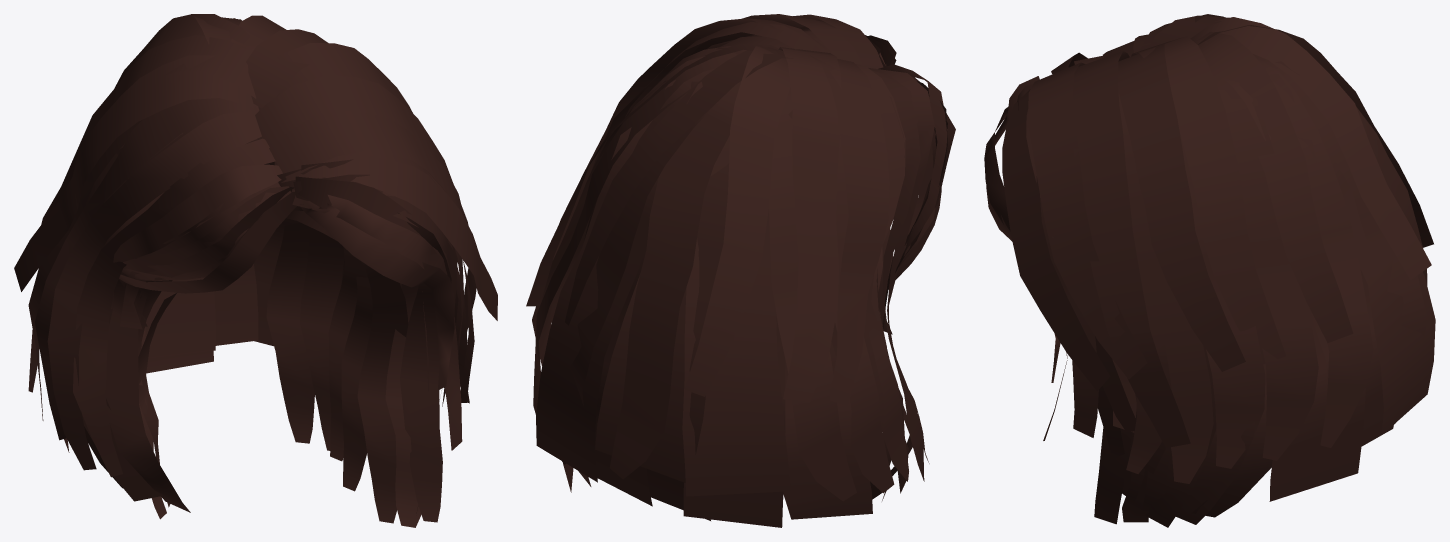
File: Hair.glb
The picture shows the model from 3 angles, left to right: view 1: azimuth 30°, elevation 25°; view 2: azimuth 150°, elevation 25°; view 3: azimuth 270°, elevation 25°; orthographic projection. The views are drawn at different scales.
Visible parts, largest first — view 1: Hair; view 2: Hair; view 3: Hair.
Part boxes in pixels (x1=…): Hair: x1=14, y1=14, x2=497, y2=527; Hair: x1=526, y1=14, x2=955, y2=527; Hair: x1=984, y1=14, x2=1435, y2=527.
Bounding box in the file's own units: 0.2175 × 0.2658 × 0.2436.
